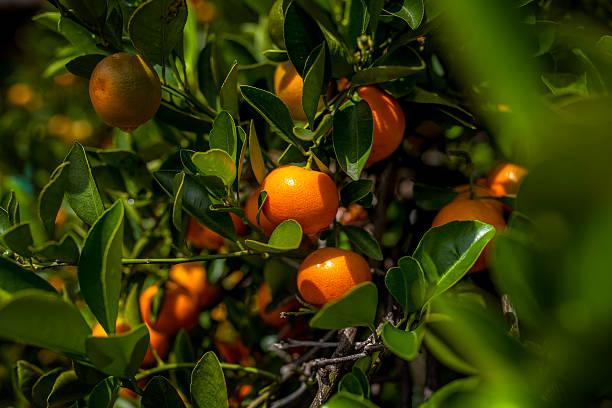orange: (85, 51, 177, 139), (256, 154, 340, 234), (414, 175, 513, 238), (306, 247, 355, 300)
